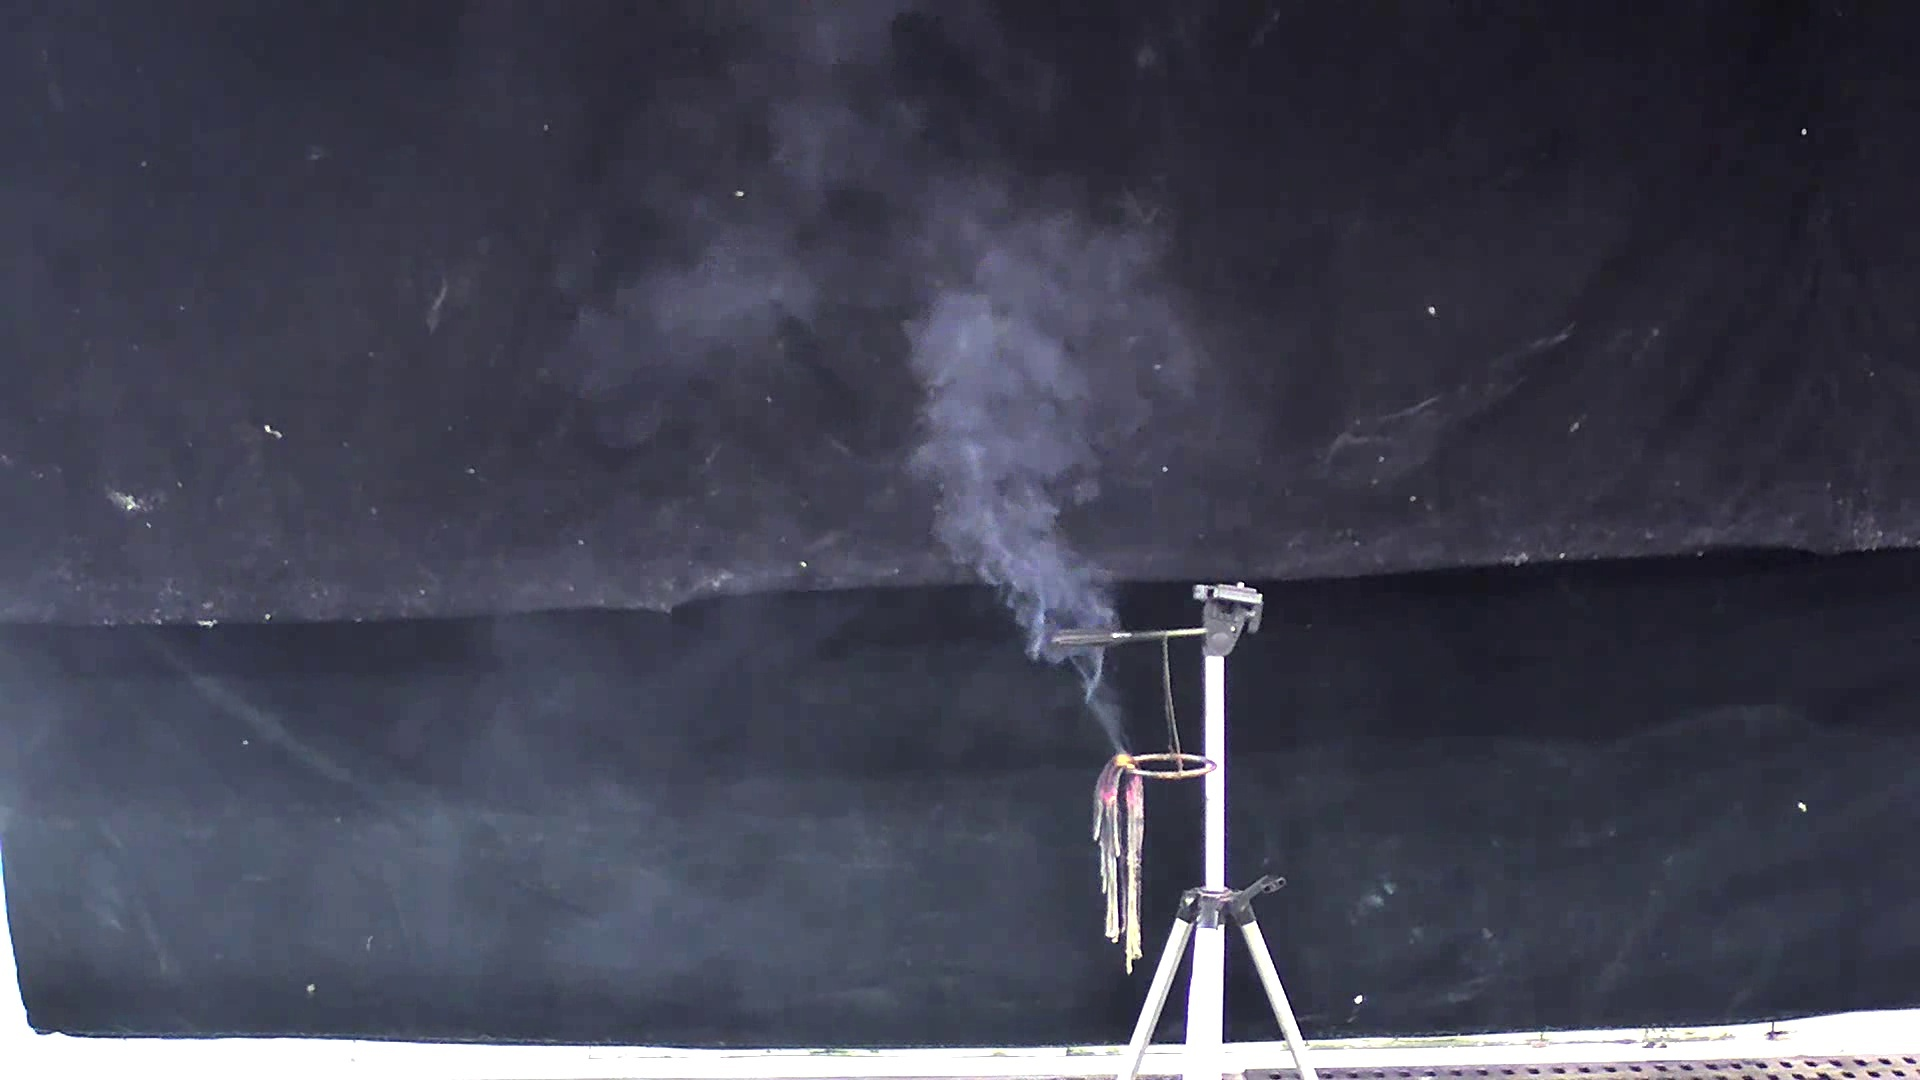smoke: (589, 44, 1197, 752)
